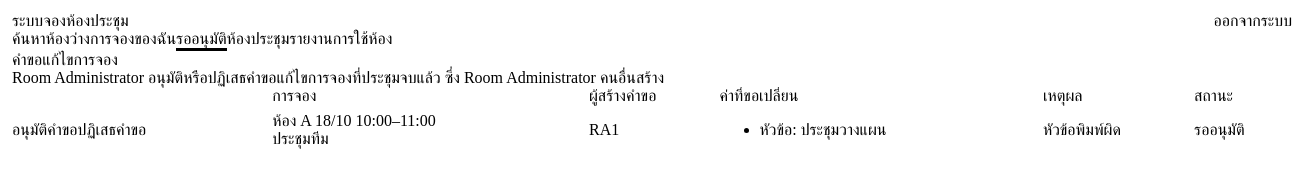
Test: FE-mrr-011 adjustment requests page (UI-mrr-011) › ปฏิเสธคำขอ posts to API-019 and says ปฏิเสธคำขอแก้ไขสำเร็จ
The width and height of the screenshot is (1304, 172).
Click the button with test id "ui-mrr-011-reject" at [112, 130], box top-left (78, 121), bottom-right (146, 139)
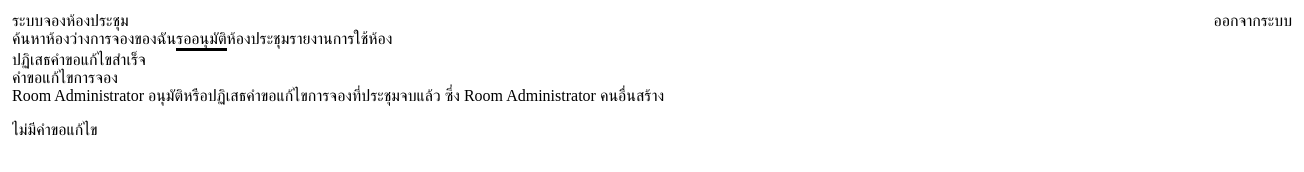
Now the message reads "ปฏิเสธคำขอแก้ไขสำเร็จ", box top-left (12, 51), bottom-right (146, 68)
